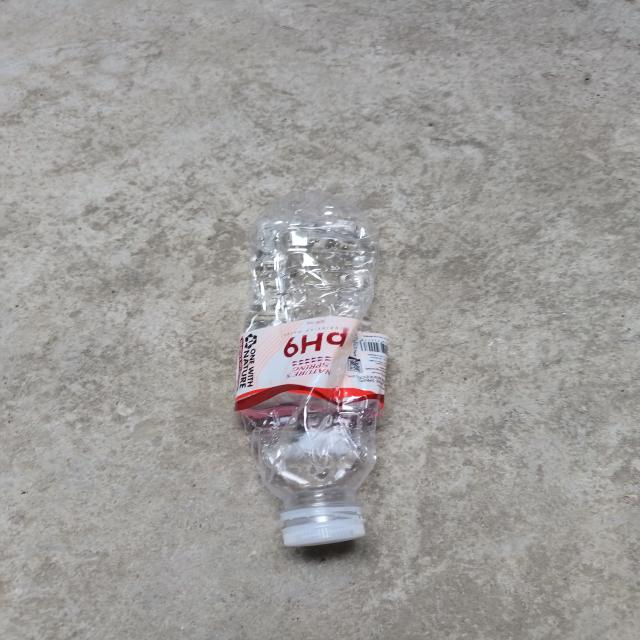Bottle: (235, 191, 388, 547)
